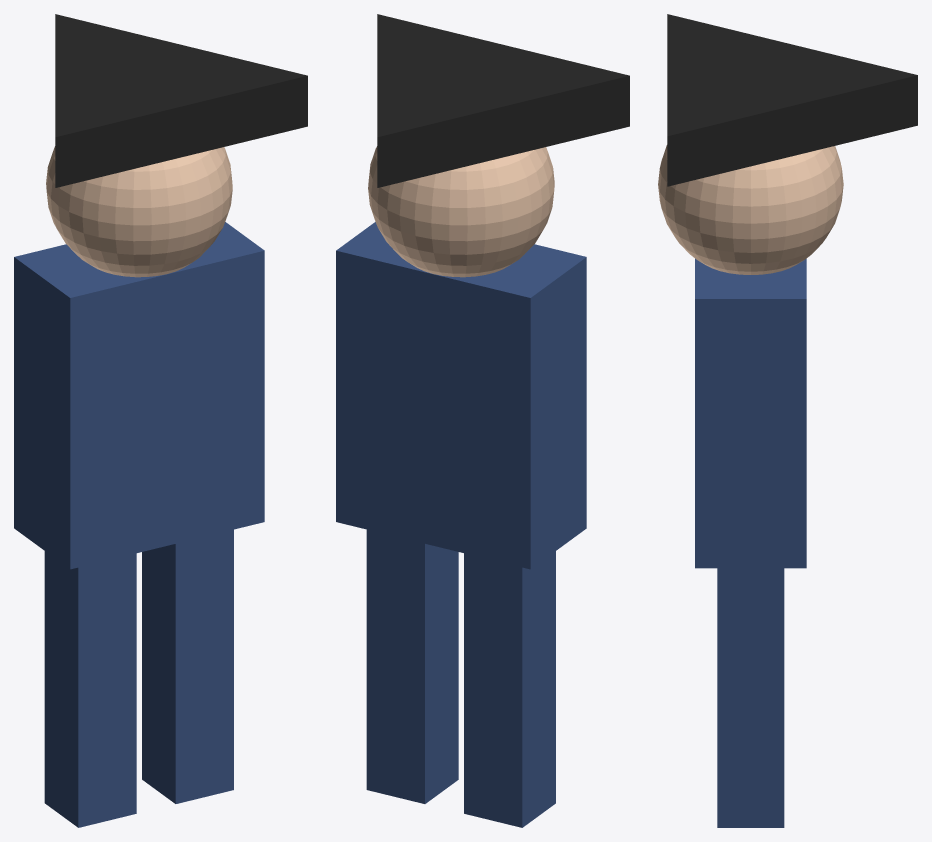
The model's file is colonial_citizen.glb.
The picture shows the model from 3 angles, left to right: view 1: azimuth 30°, elevation 25°; view 2: azimuth 150°, elevation 25°; view 3: azimuth 270°, elevation 25°; orthographic projection.
Parts seen in each view (by area): view 1: colonial_citizen; view 2: colonial_citizen; view 3: colonial_citizen.
Part boxes in pixels (x1,y1,x2,y2): colonial_citizen: (14,14,307,827); colonial_citizen: (336,14,629,827); colonial_citizen: (658,14,917,827).
Size of the model in its own units: 0.7794 by 2.12 by 0.7.
